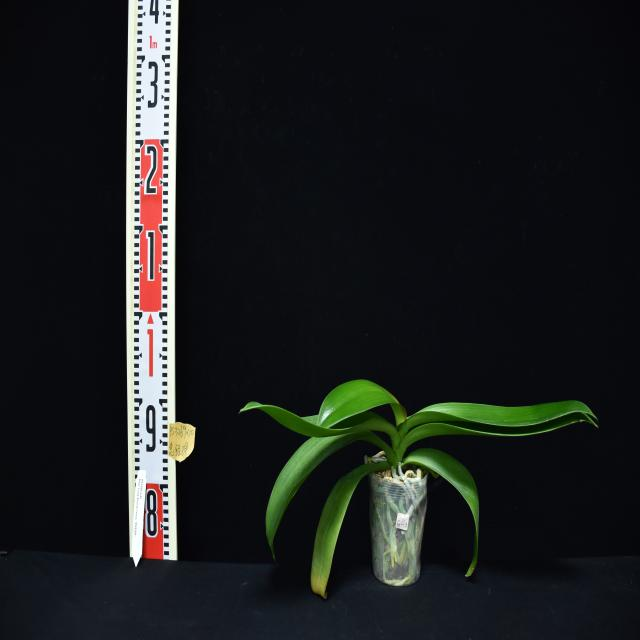leaf: (266, 431, 401, 563), (311, 461, 388, 598), (402, 447, 480, 577), (401, 414, 597, 452), (239, 402, 399, 446), (401, 400, 597, 434), (318, 380, 407, 429)
